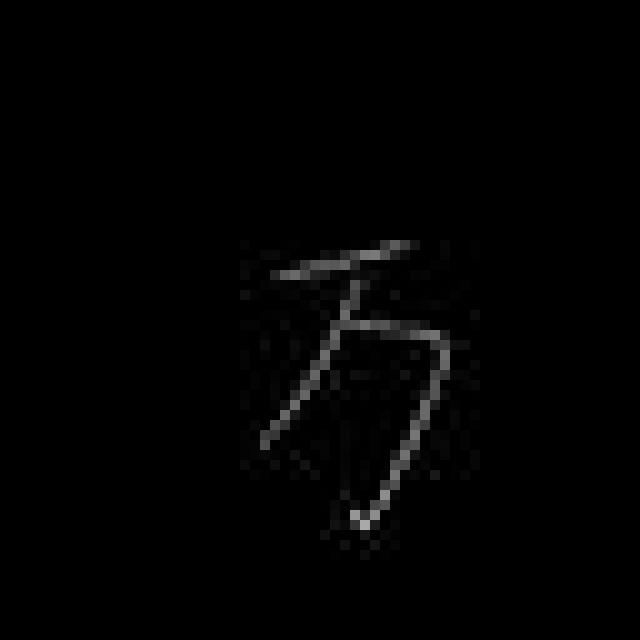10000 -a ten thousand-: (237, 226, 462, 540)
